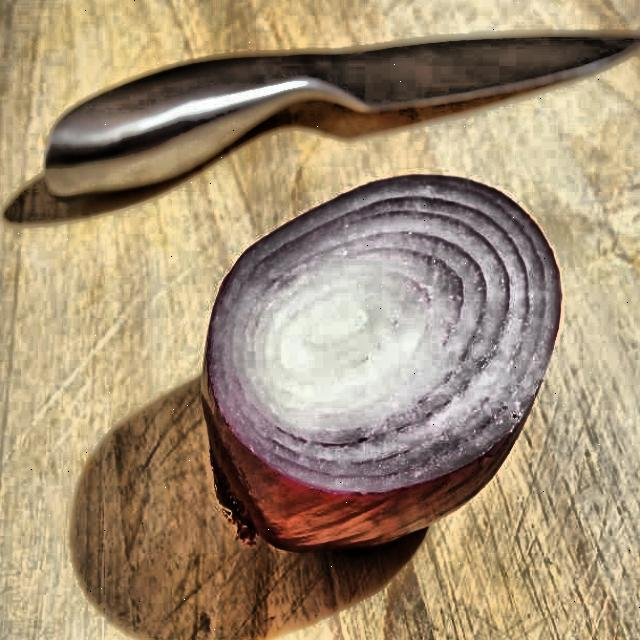knife: (43, 31, 640, 194)
